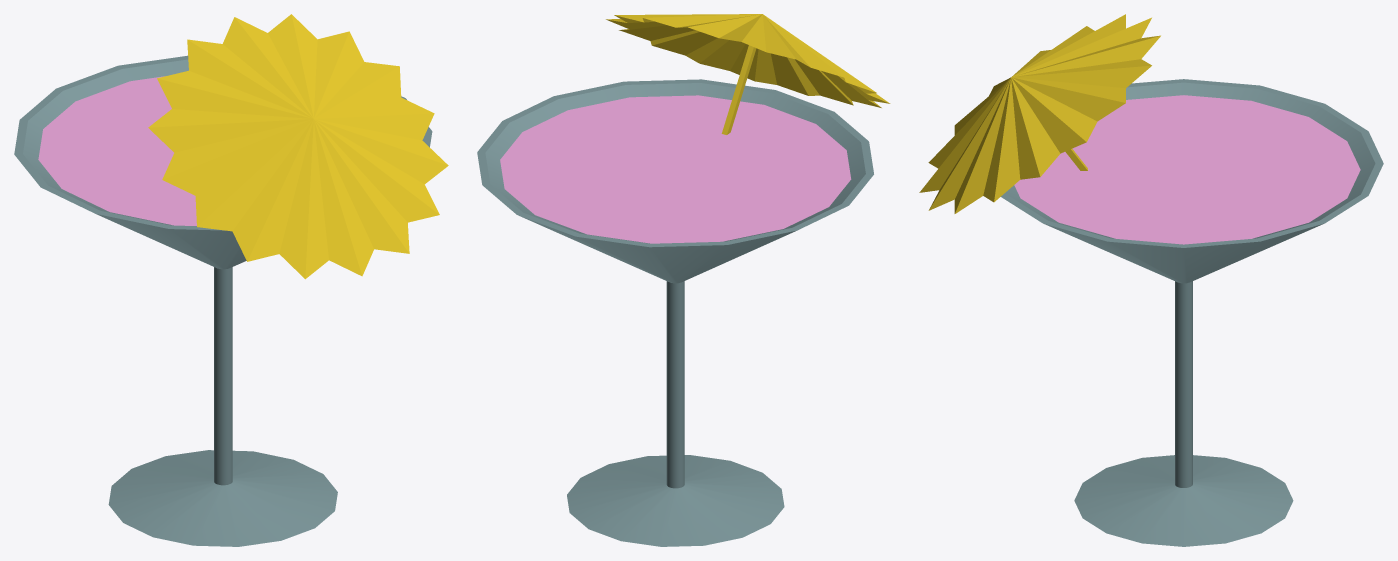
File: Drink.fbx
3 renders of one model, left to right at view 1: azimuth 30°, elevation 25°; view 2: azimuth 150°, elevation 25°; view 3: azimuth 270°, elevation 25°, orthographic. The views are drawn at different scales.
Visible parts, largest first — view 1: Drink; view 2: Drink; view 3: Drink.
Part boxes in pixels (<box>): Drink: <box>14,14,448,546</box>; Drink: <box>477,14,890,546</box>; Drink: <box>919,14,1383,546</box>.
Size of the model in its own units: 0.2835 by 0.3637 by 0.3294.
